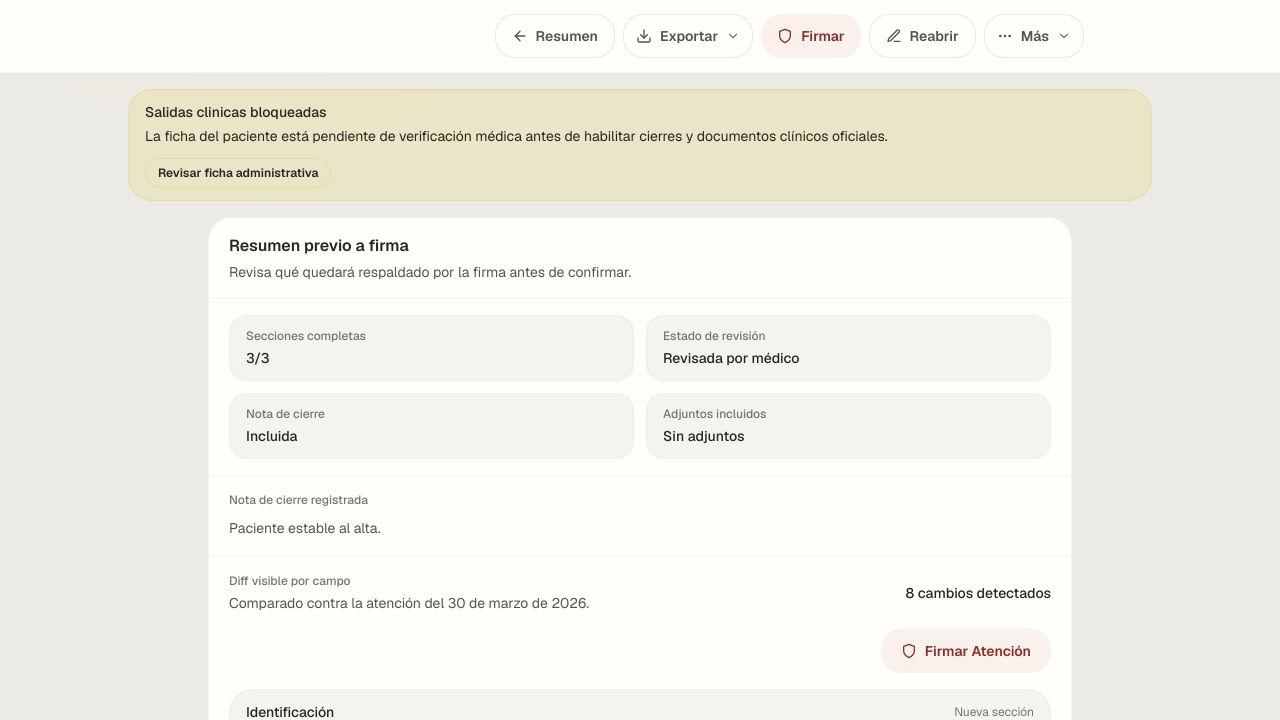
Test case: FichaClinicaPage clinical-output block › disables print and official export actions when the patient record is pending verification
This screenshot has width=1280, height=720.
Click the button with aria-label "Exportar documentos": coordinates (688, 36) left=623, top=14, right=753, bottom=58
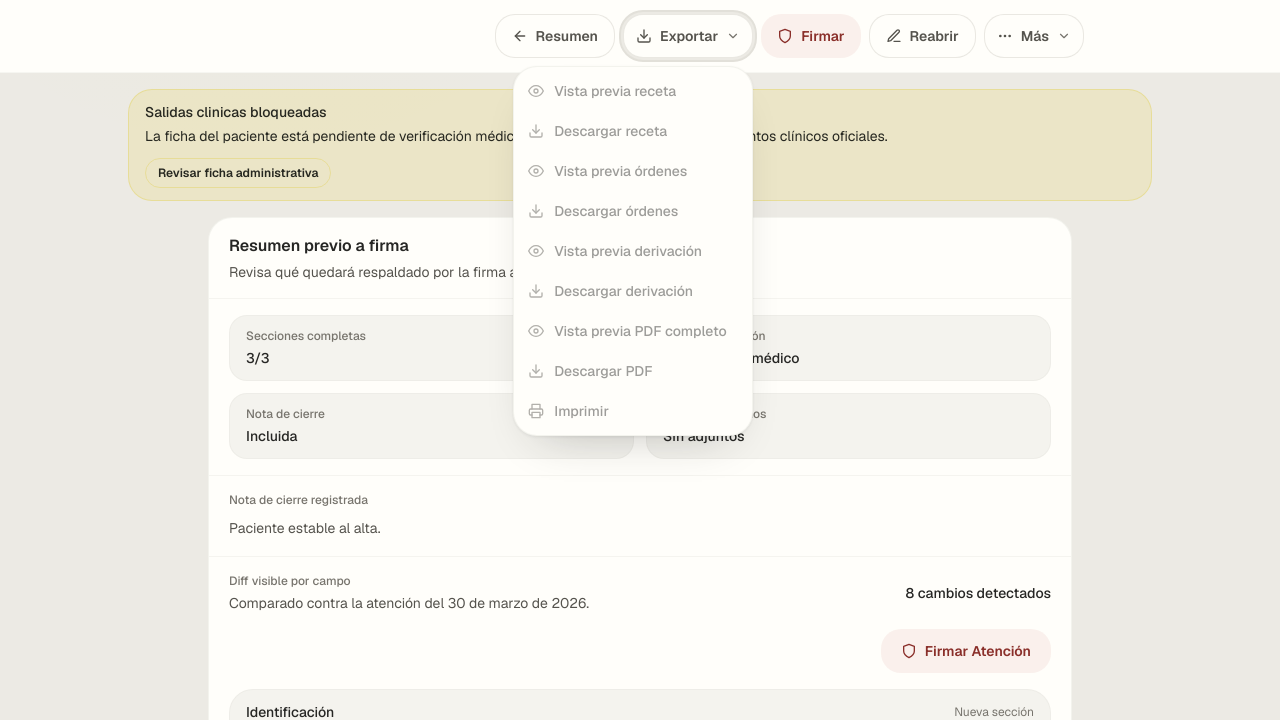
Expected: the menu item "Vista previa receta" is disabled, left=514, top=71, right=752, bottom=111
Expected: the menu item "Descargar receta" is disabled, left=514, top=111, right=752, bottom=151
Expected: the menu item "Vista previa órdenes" is disabled, left=514, top=151, right=752, bottom=191
